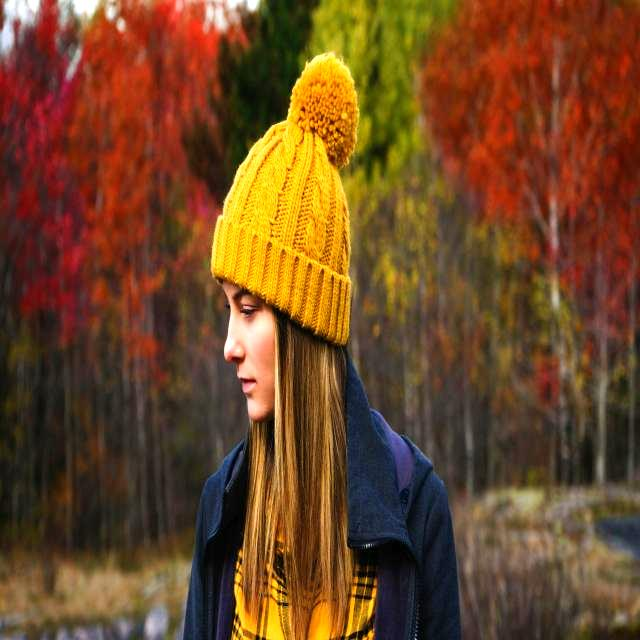no_hard_hat: (212, 53, 359, 345)
person: (184, 54, 461, 640)
